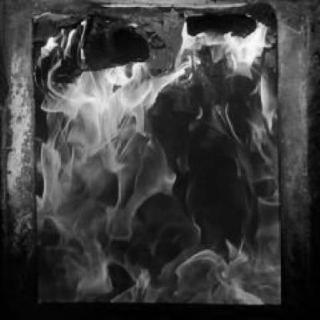Fire: (32, 19, 278, 307)
